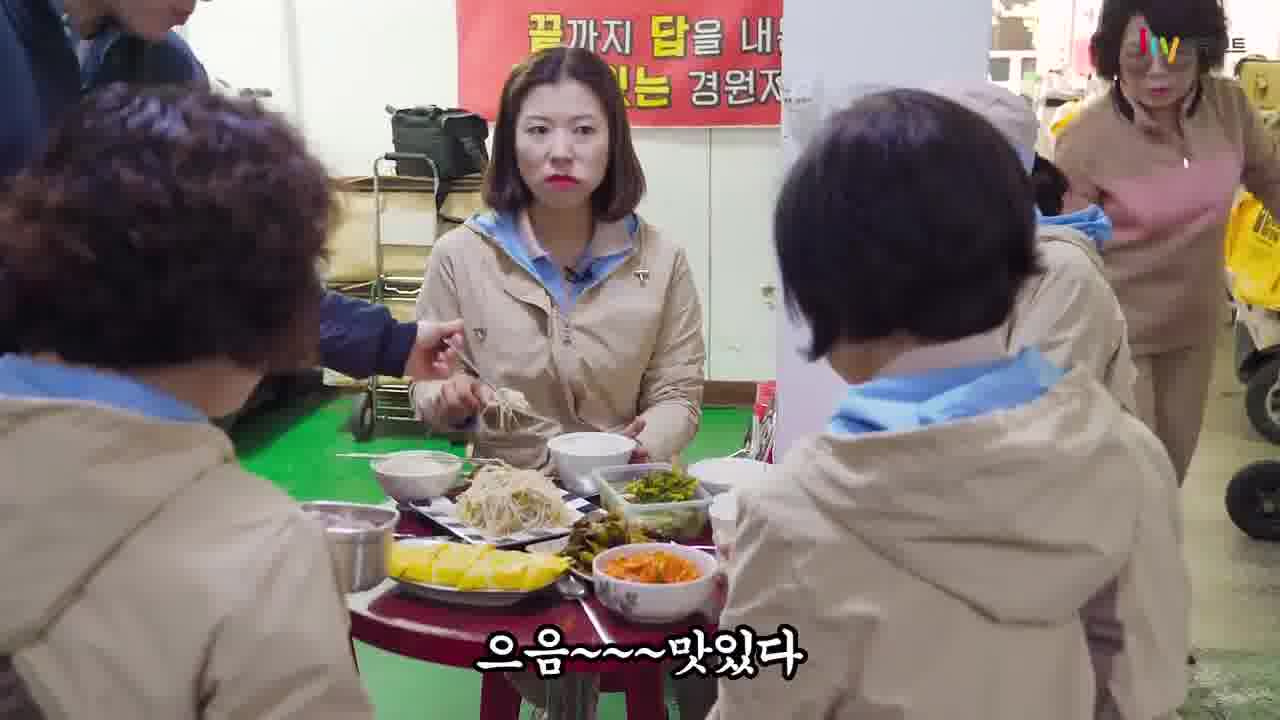Yakurut: (694, 136, 1245, 720), (1, 77, 426, 720), (1037, 2, 1280, 482), (431, 53, 690, 458)
